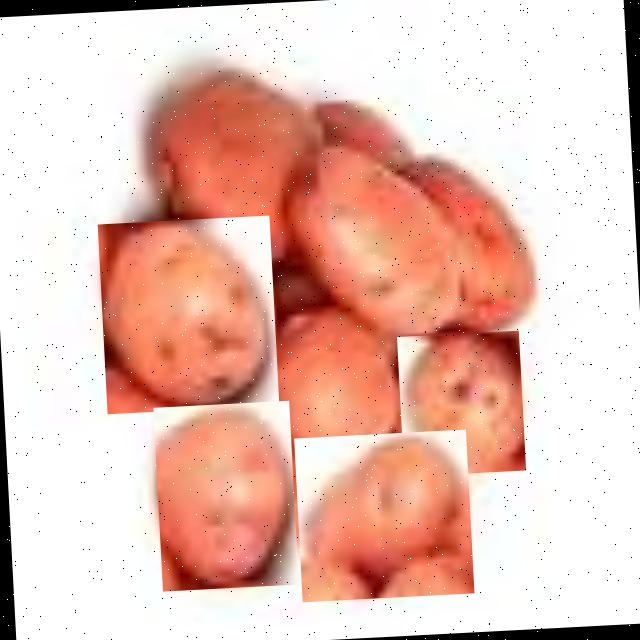Defected potato: (143, 62, 330, 284), (284, 134, 472, 348), (98, 214, 280, 413), (294, 428, 474, 602), (154, 400, 298, 590), (262, 308, 402, 480), (397, 330, 526, 476)
